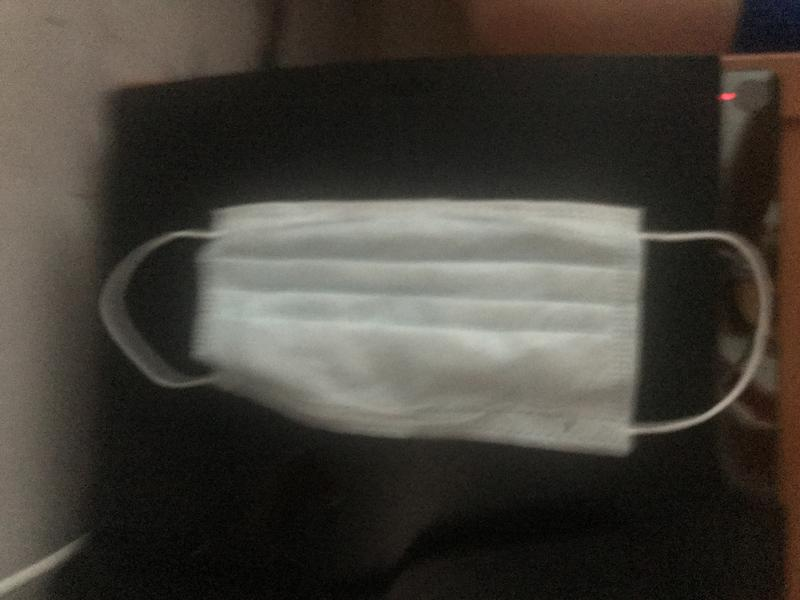medical_mask: (104, 203, 766, 457)
